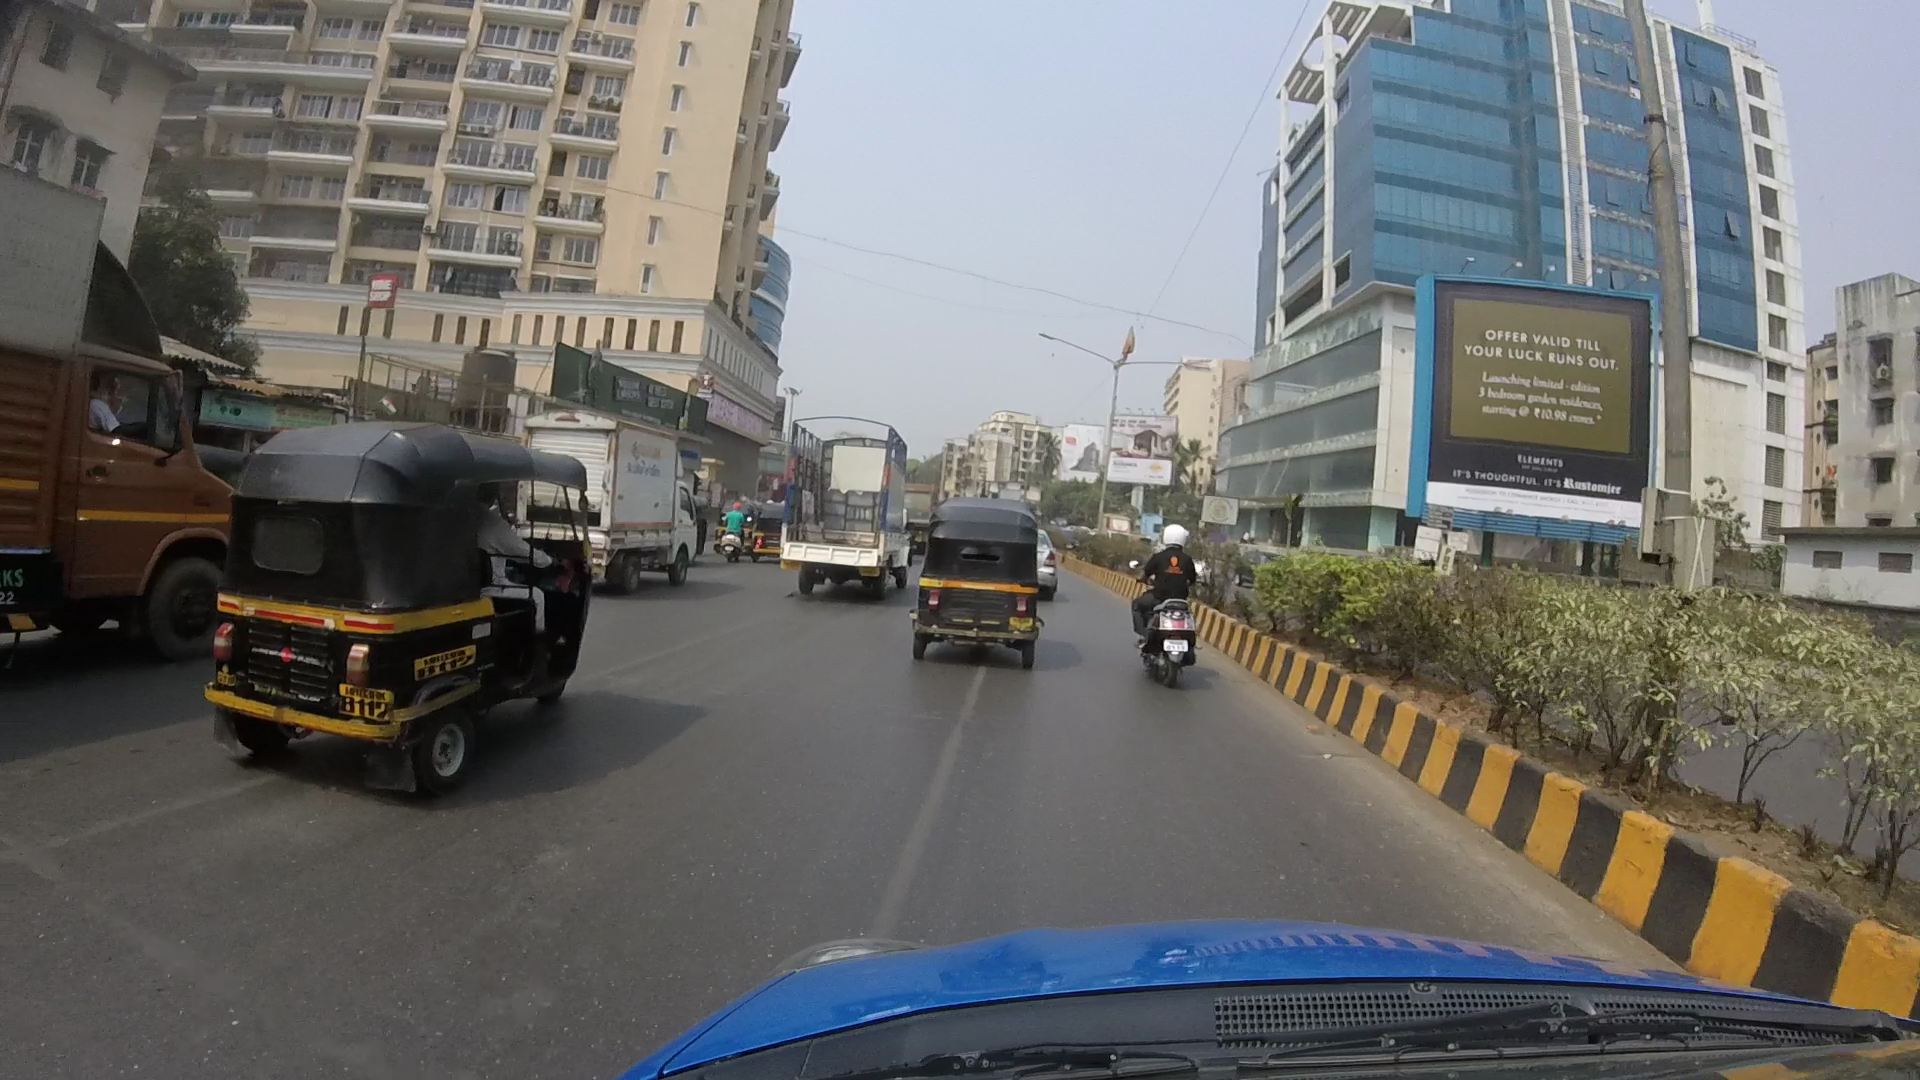bike/scooter: (1124, 487, 1254, 698)
rickshaw: (212, 404, 601, 807), (907, 487, 1044, 692)
truck: (4, 166, 243, 702), (530, 367, 717, 607), (757, 384, 910, 597)
